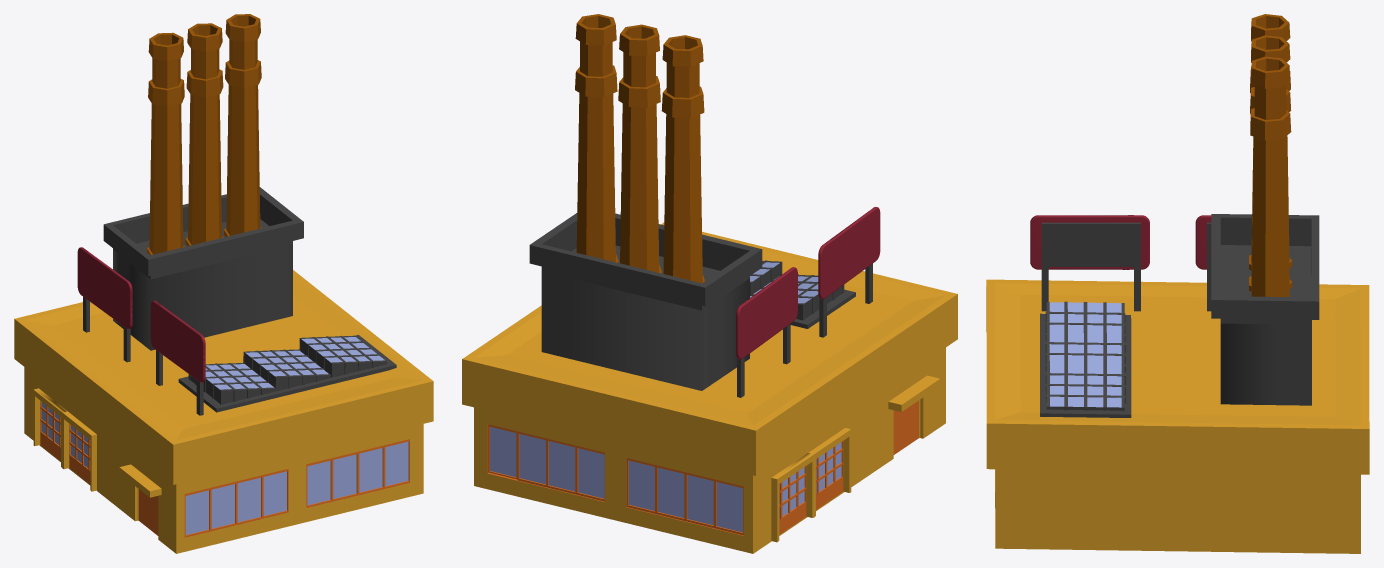
File: Usine Tel Niv2.fbx
The picture shows the model from 3 angles, left to right: view 1: azimuth 30°, elevation 25°; view 2: azimuth 150°, elevation 25°; view 3: azimuth 270°, elevation 25°; orthographic projection. The views are drawn at different scales.
Visible parts, largest first — view 1: usine.027; view 2: usine.027; view 3: usine.027.
Part boxes in pixels (box(x1,y1,x2,y2)): usine.027: box(14, 14, 433, 553); usine.027: box(462, 14, 957, 553); usine.027: box(986, 14, 1369, 553).
Size of the model in its own units: 760 by 1054 by 811.
